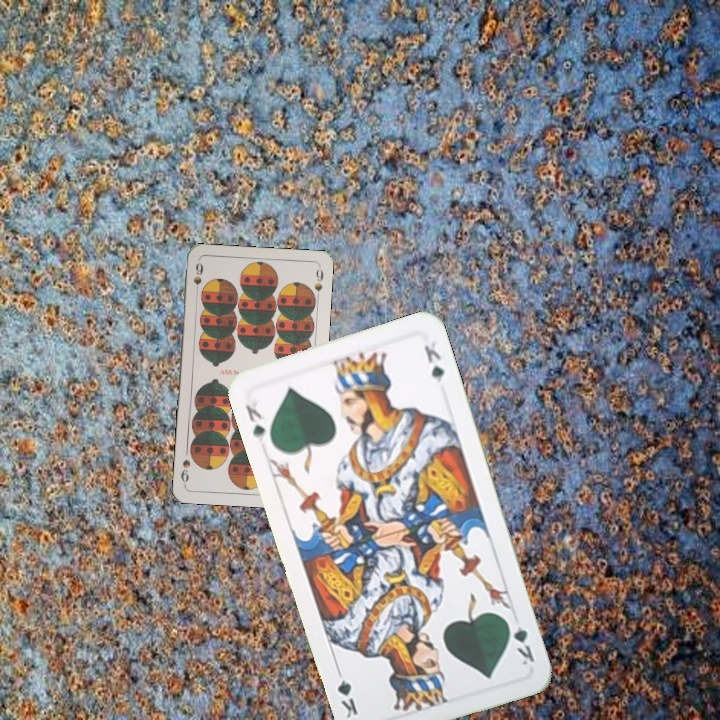GK: (502, 614, 537, 668), (241, 401, 268, 445)
S9: (190, 259, 206, 299)
